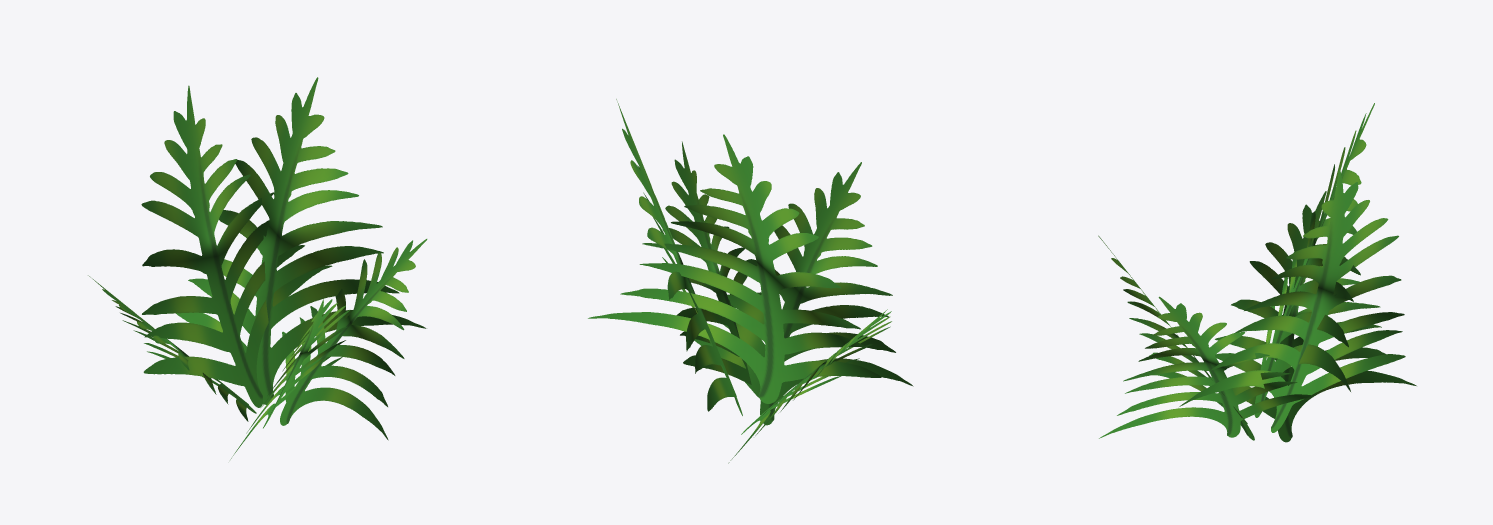
File: plant3.fbx
3 views of the same model, side by side, from view 1: azimuth 30°, elevation 25°; view 2: azimuth 150°, elevation 25°; view 3: azimuth 270°, elevation 25° (orthographic). The views are drawn at different scales.
Visible parts, largest first — view 1: pPlane37; view 2: pPlane37; view 3: pPlane37.
Part boxes in pixels (box(x1,y1,x2,y2)): pPlane37: box(88, 77, 427, 459); pPlane37: box(588, 99, 913, 463); pPlane37: box(1098, 103, 1416, 442).
Size of the model in its own units: 0.3064 by 0.2916 by 0.2919.
